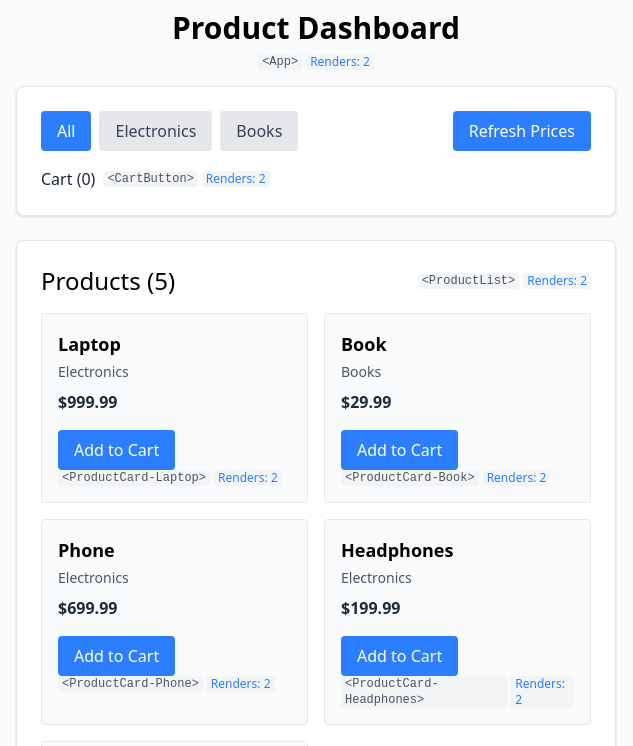
Scenario: Product Dashboard checklist › Clicking back to 'All' filter shows all 5 products and increments `ProductList` render count to 'Renders: 6'
Click the button "Electronics" at coordinates (156, 131), box [100,111,212,151]
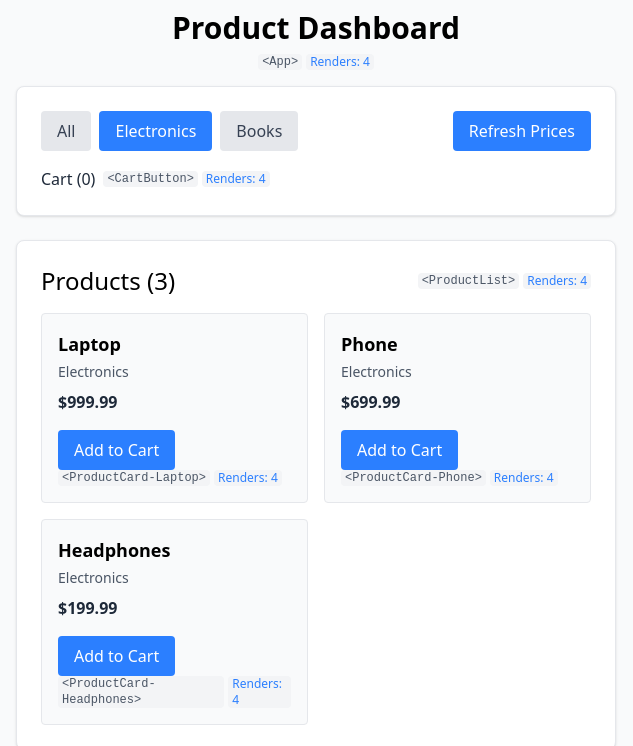
Click the button "All" at coordinates (66, 131), box [41,111,92,151]
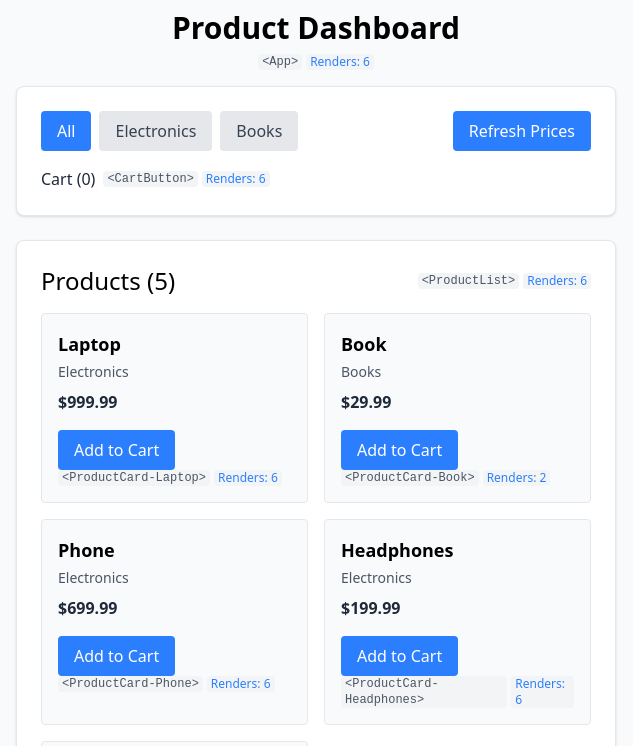
Expected: the heading "Products (5)" is shown, [41,265,175,297]
Expected: the text "Books" is shown, [341,362,381,381]
Expected: the text "Renders: 6" next to "ProductList" is shown, [523,273,591,289]
